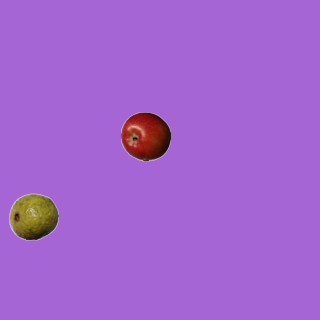Apple Braeburn: (120, 111, 170, 161)
Guava: (8, 191, 58, 241)
